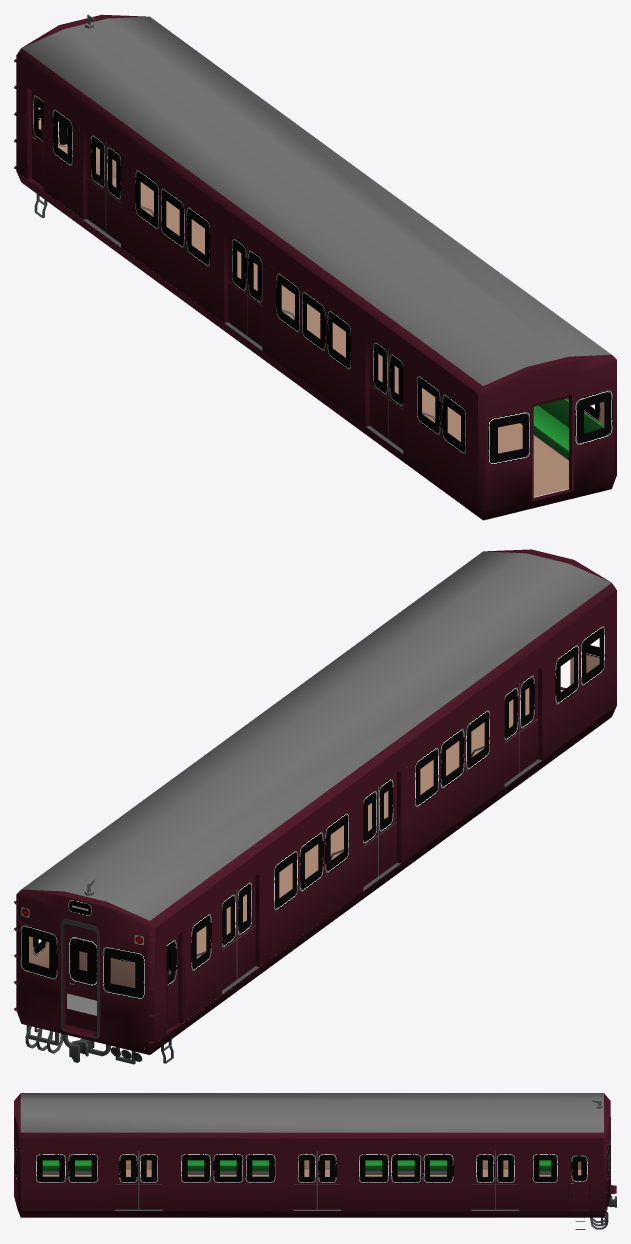
File: HANKYU2000_3.glb
The picture shows the model from 3 angles, top to bottom: view 1: azimuth 30°, elevation 25°; view 2: azimuth 150°, elevation 25°; view 3: azimuth 270°, elevation 25°; orthographic projection. The views are drawn at different scales.
Visible parts, largest first — view 1: body; view 2: body; view 3: body.
Part boxes in pixels (bbox=[...]): body: bbox=[14, 14, 616, 520]; body: bbox=[14, 549, 616, 1064]; body: bbox=[14, 1093, 616, 1229].
Bounding box in the file's own units: 6.68 × 7.94 × 38.87.
Materials: 12 (11 with a texture image).
